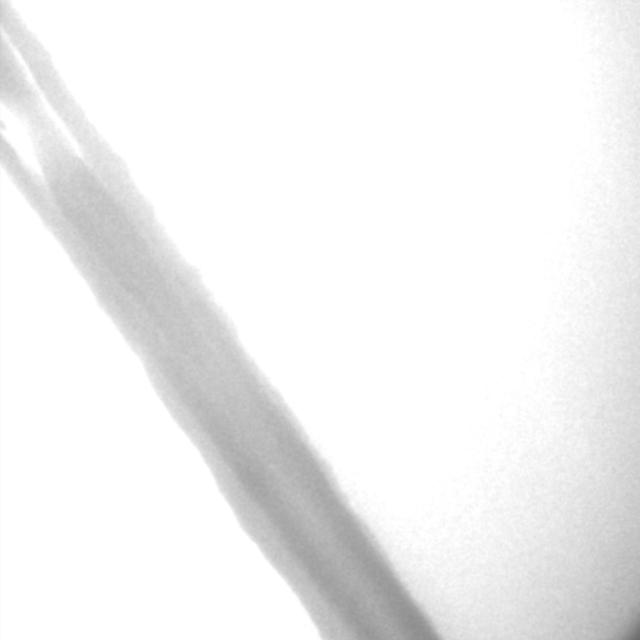unfused: (1, 33, 90, 190)
